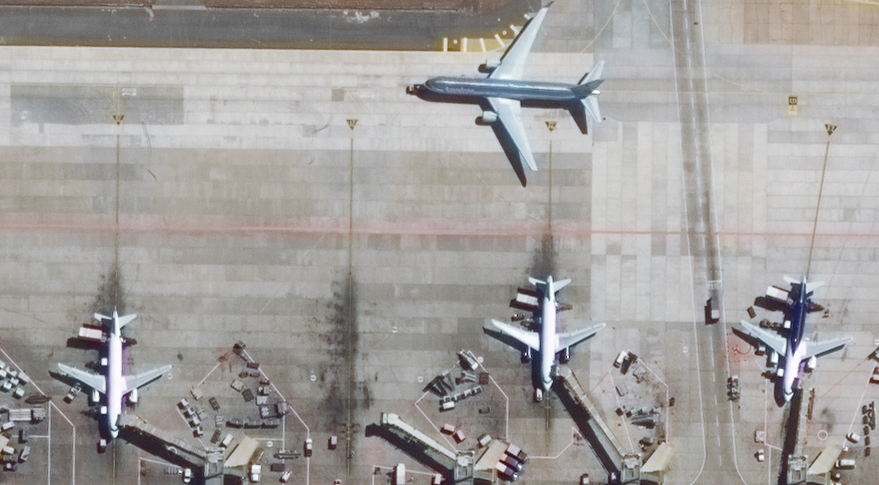aircraft: (416, 2, 613, 176), (54, 305, 173, 443), (734, 273, 853, 404), (489, 274, 607, 396)
